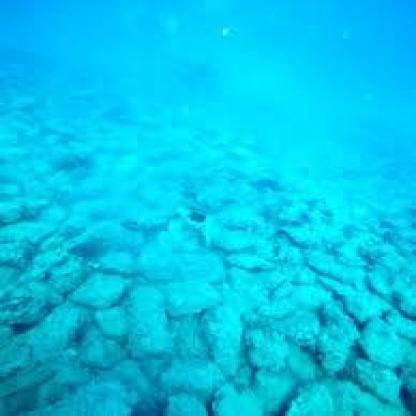tire: (178, 209, 221, 234)
